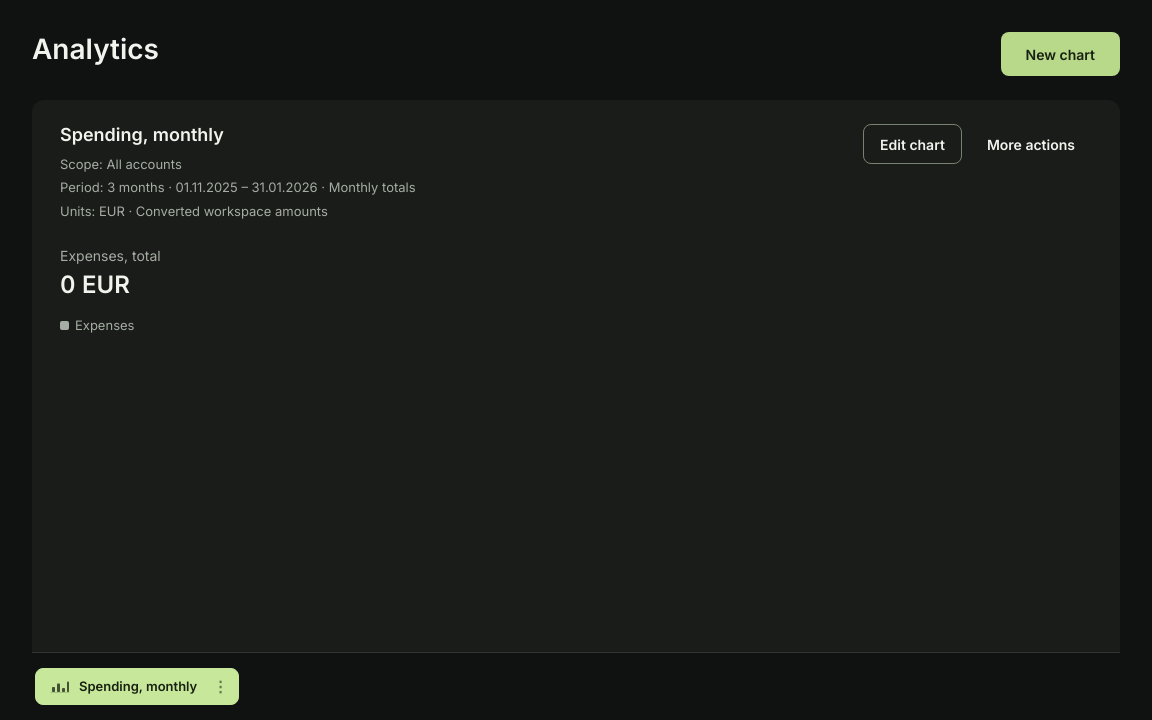
Scenario: contextual workspace controls › retains loaded request windows across rollover and a title-only column edit
This screenshot has width=1152, height=720.
Expected: the text "Units: EUR · Converted workspace amounts" is shown, [60,202,328,218]
Click the button "Edit chart".
click(912, 144)  # box [863,124,962,164]
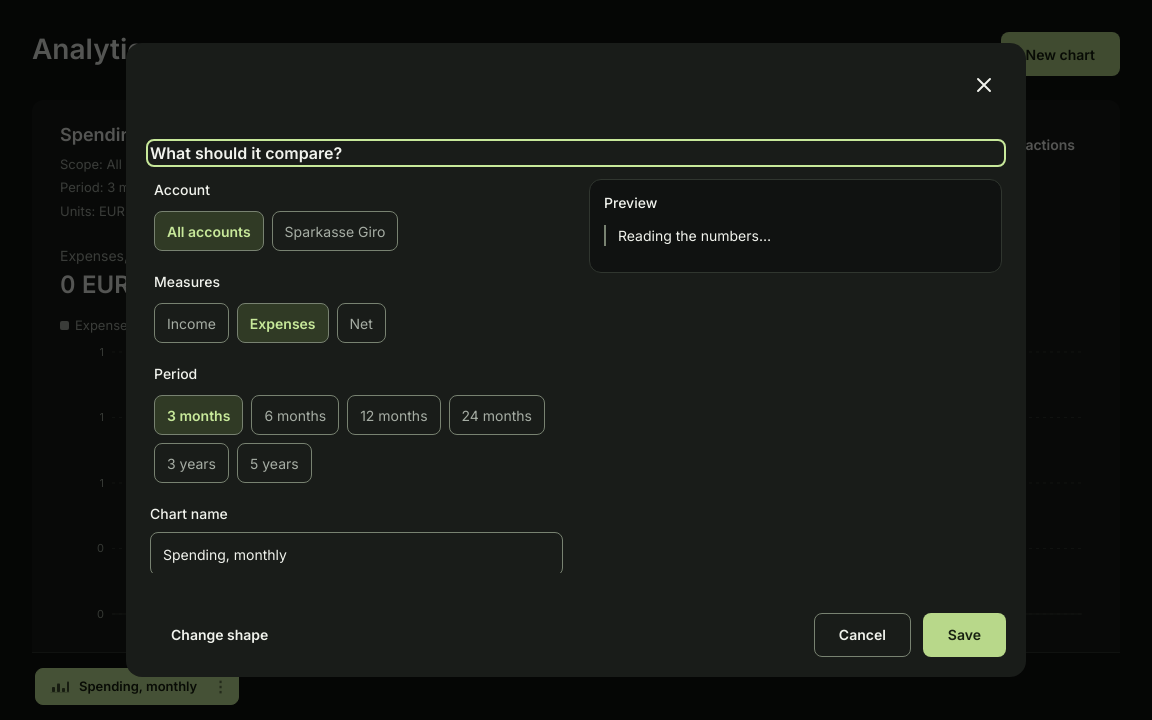
Replace the text in the field labelled "Chart name" with "Renamed after rollover" at {"x": 356, "y": 554}, box [150,532,563,576]
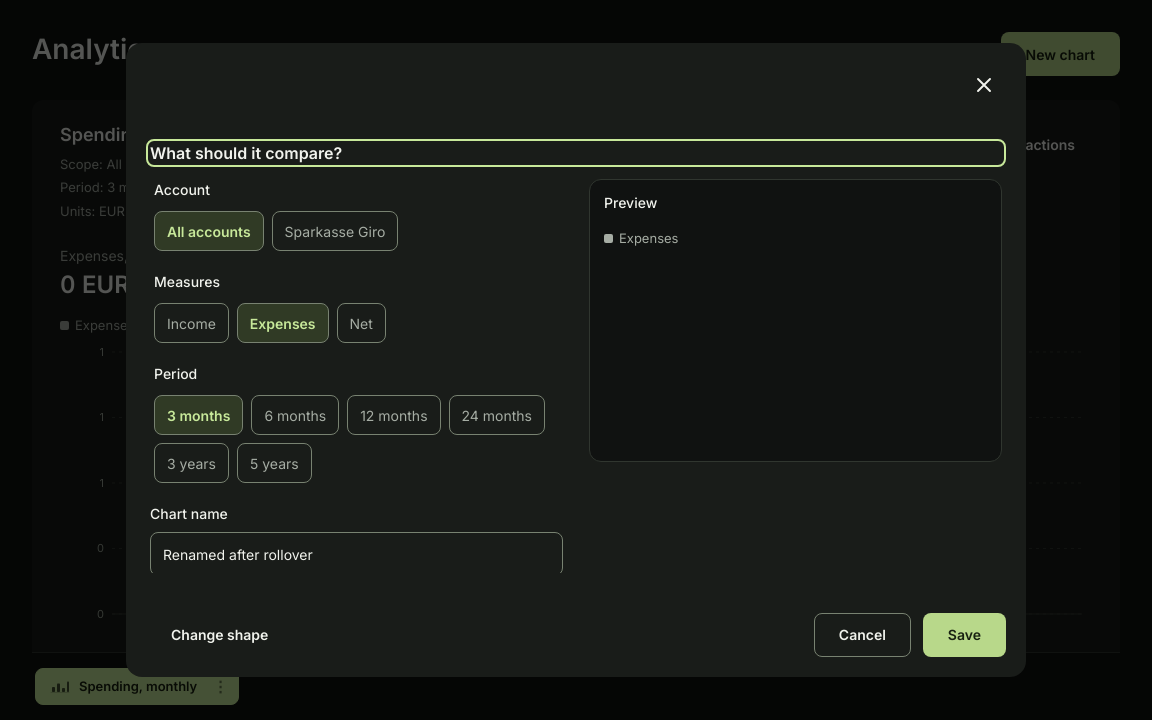
Now the text "Reading the numbers…" is gone
Click the button "Save".
click(964, 635)  # box [923,613,1006,657]
(page scrolled)
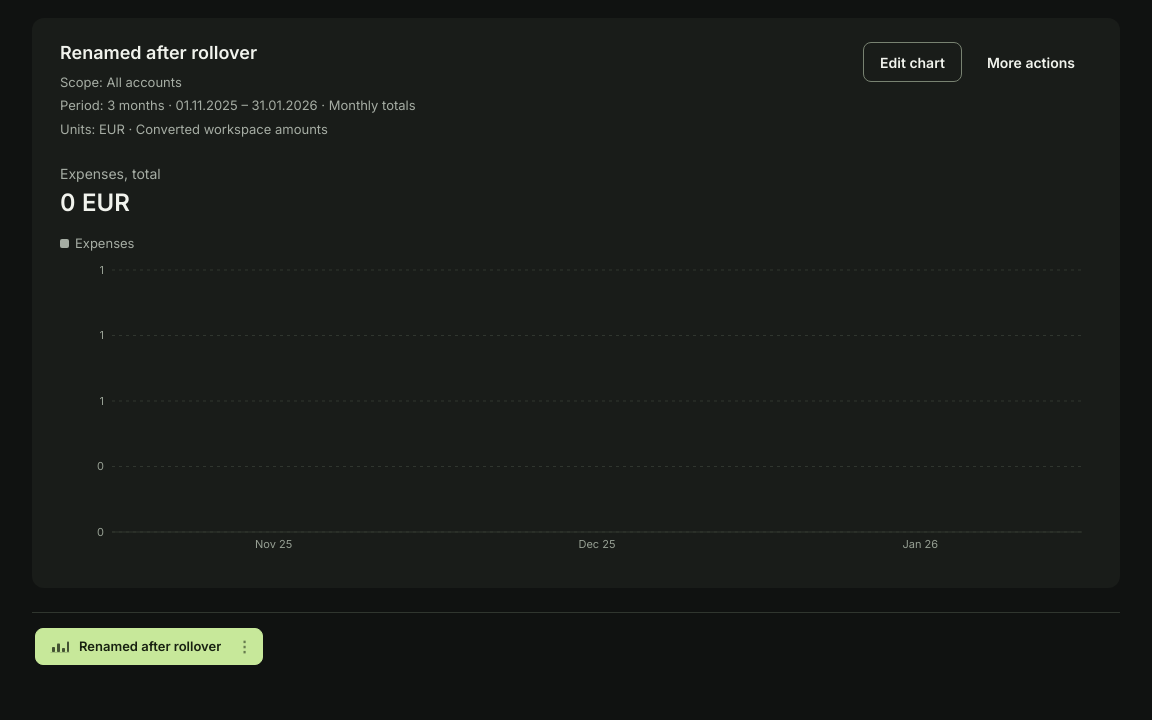
Now the heading "Renamed after rollover" is shown, box [60,42,257,63]
